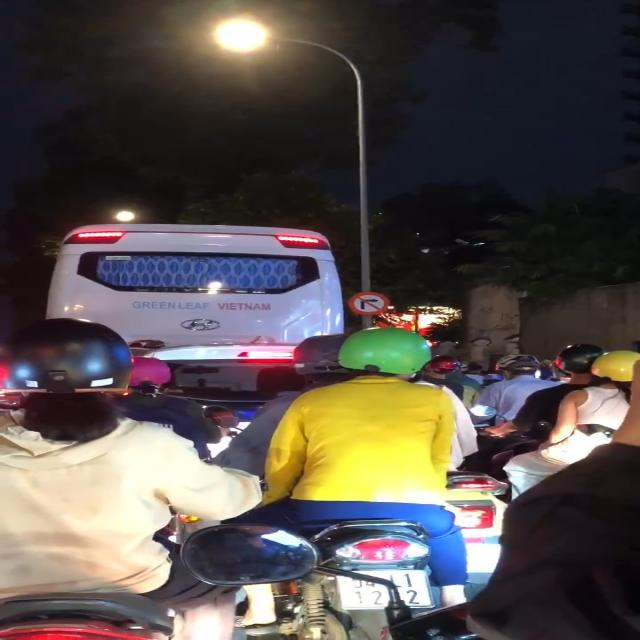Bien bao cam re phai: (346, 290, 395, 317)
